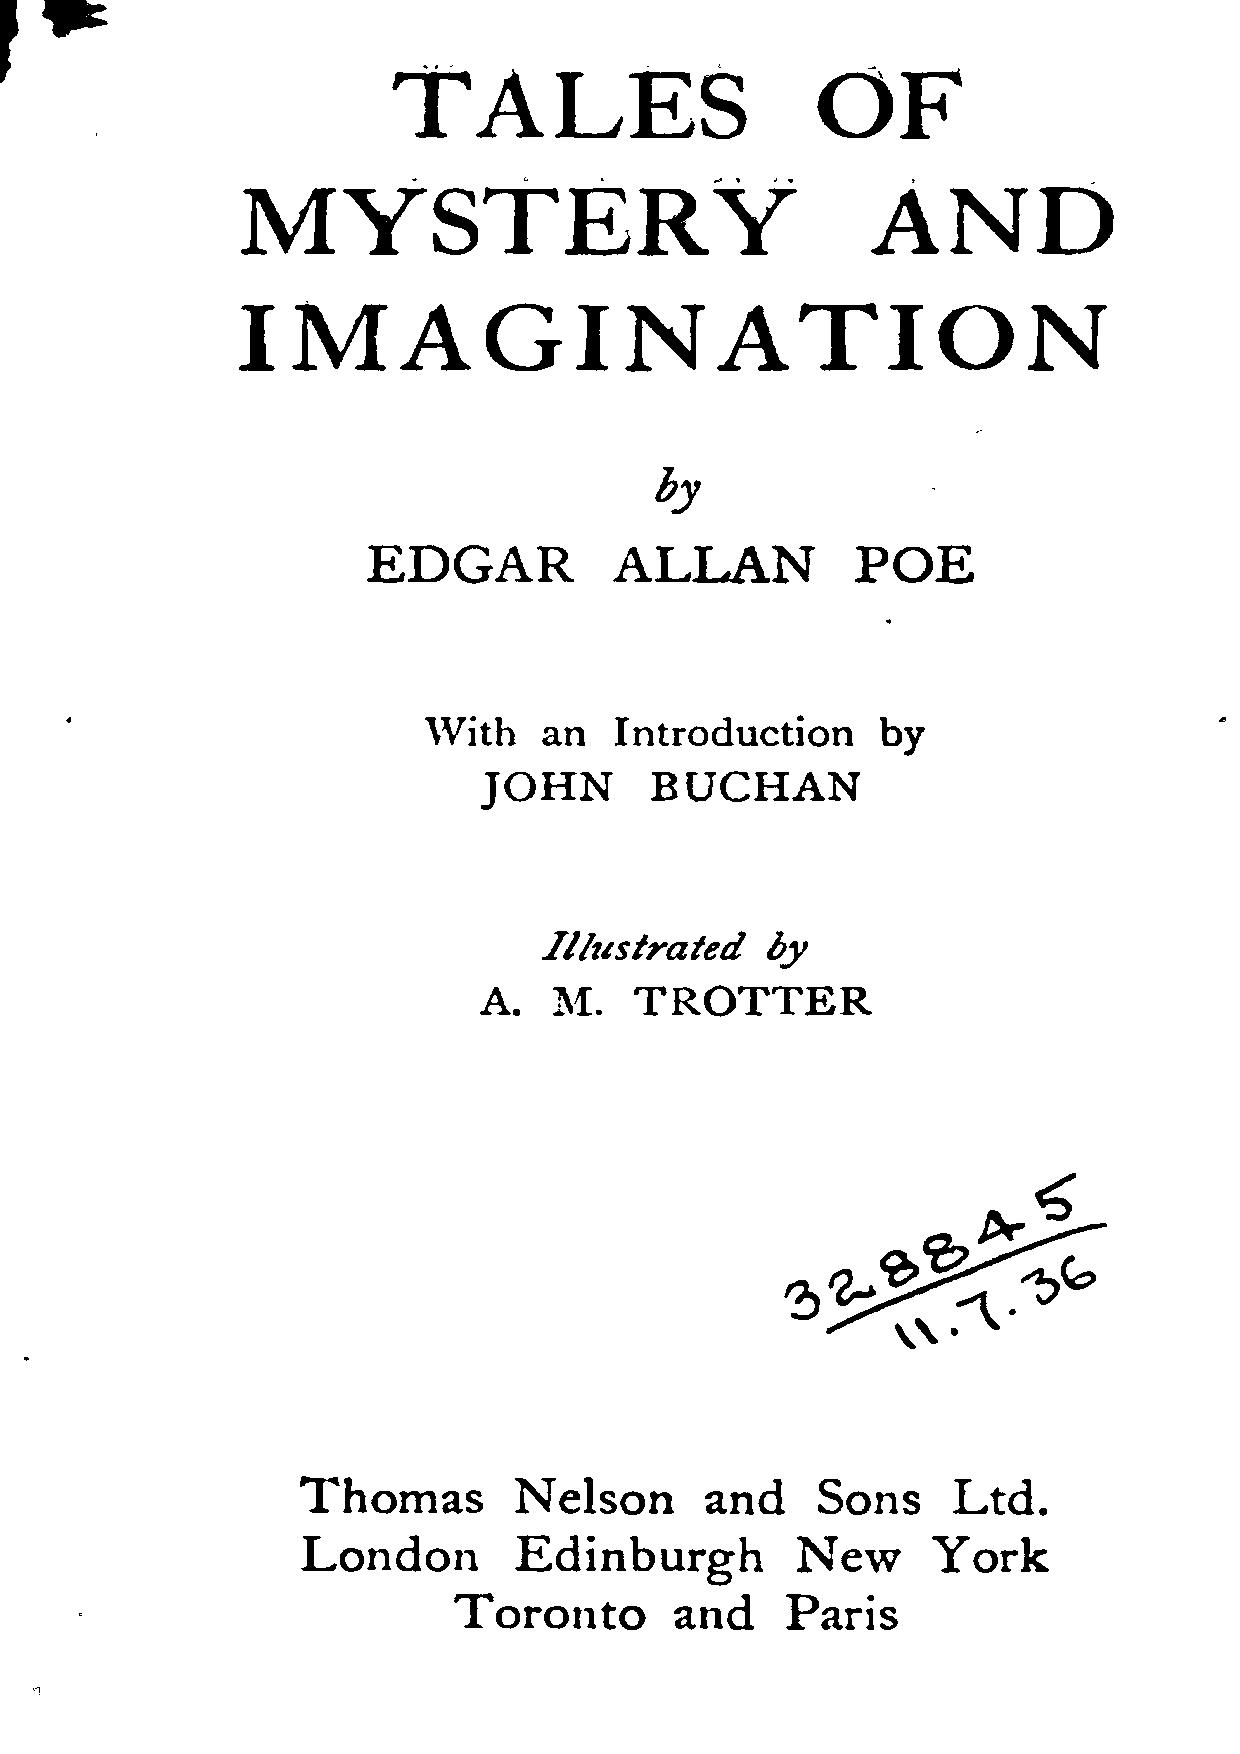author: (362, 464, 972, 588)
title: (235, 67, 1117, 377)
